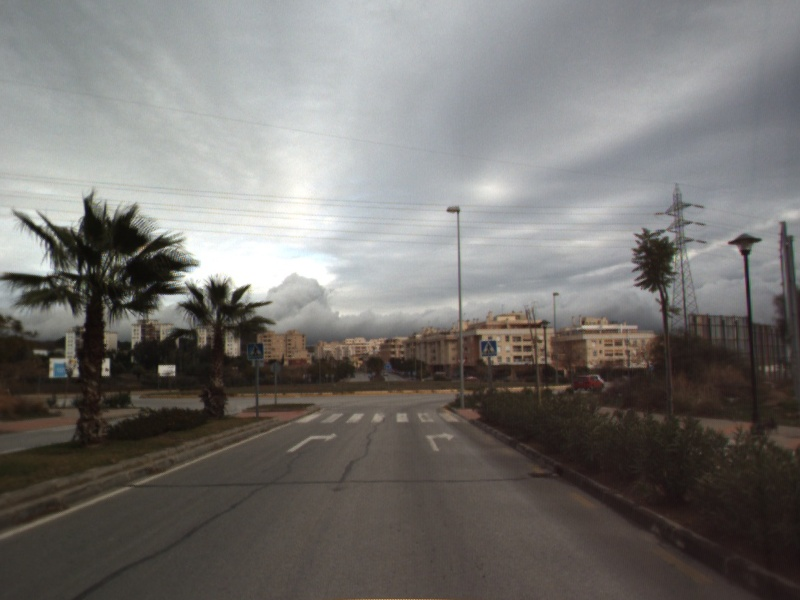RIGHT: (285, 430, 339, 454), (424, 430, 457, 453)
